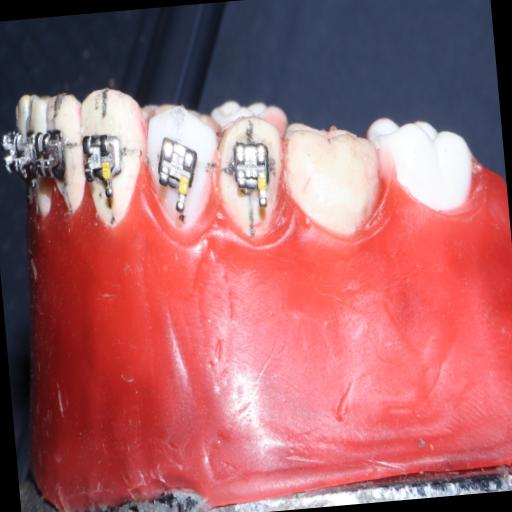correct_brace: (142, 104, 224, 232)
incorrect_brace: (154, 131, 199, 190)
